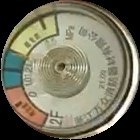green: (3, 50, 31, 89)
red: (4, 89, 51, 129)
yellow: (9, 13, 60, 58)
